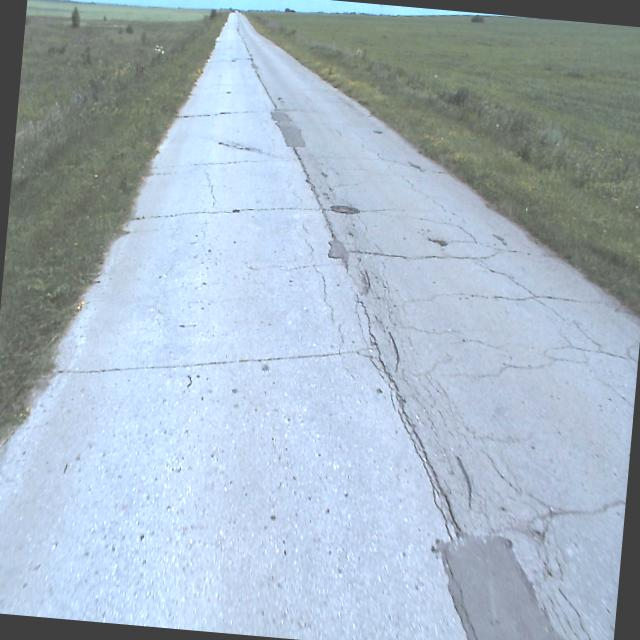road: (0, 12, 640, 640)
